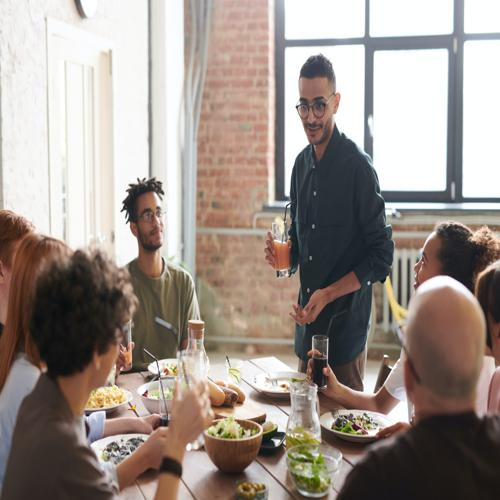vaso: (271, 215, 292, 283), (310, 333, 329, 392)
